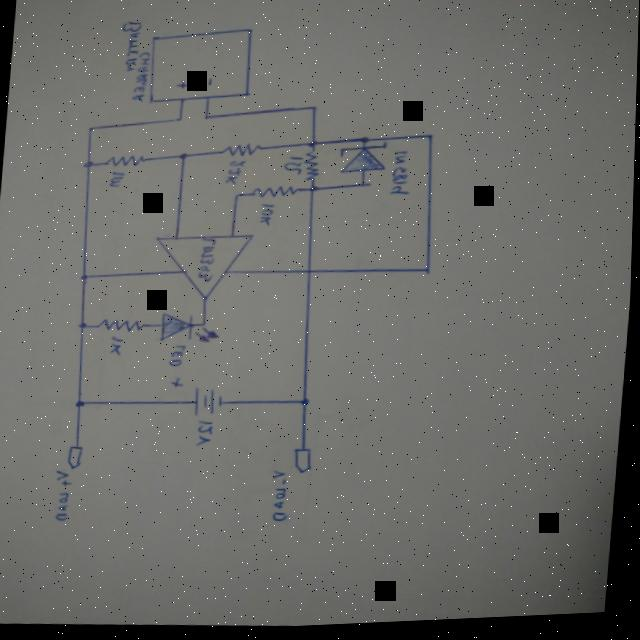crossover: (305, 269, 315, 278)
diode: (160, 309, 223, 347), (339, 141, 389, 178)
junction: (75, 398, 89, 410), (307, 140, 321, 152), (178, 152, 192, 163), (309, 186, 322, 197), (359, 137, 373, 147), (83, 159, 96, 169), (300, 399, 314, 408), (309, 106, 321, 116), (78, 321, 91, 330), (359, 182, 369, 192), (426, 136, 437, 144), (88, 125, 97, 133), (81, 274, 91, 281), (202, 115, 212, 122), (425, 269, 433, 277), (175, 117, 185, 123), (201, 321, 209, 328), (234, 194, 242, 200)
resistor: (97, 316, 148, 335), (220, 142, 264, 162), (251, 185, 300, 201), (302, 150, 324, 184), (106, 153, 149, 169)
source: (147, 25, 256, 109), (194, 385, 230, 420)
terminal: (294, 448, 319, 476), (69, 444, 87, 470)
text: (271, 470, 297, 525), (53, 468, 79, 523), (118, 21, 142, 73), (391, 152, 416, 200), (131, 52, 151, 103), (198, 237, 219, 284), (225, 160, 248, 187), (197, 420, 218, 449), (169, 344, 189, 369), (283, 156, 306, 177), (260, 204, 276, 229), (111, 335, 126, 357), (109, 171, 126, 189)
